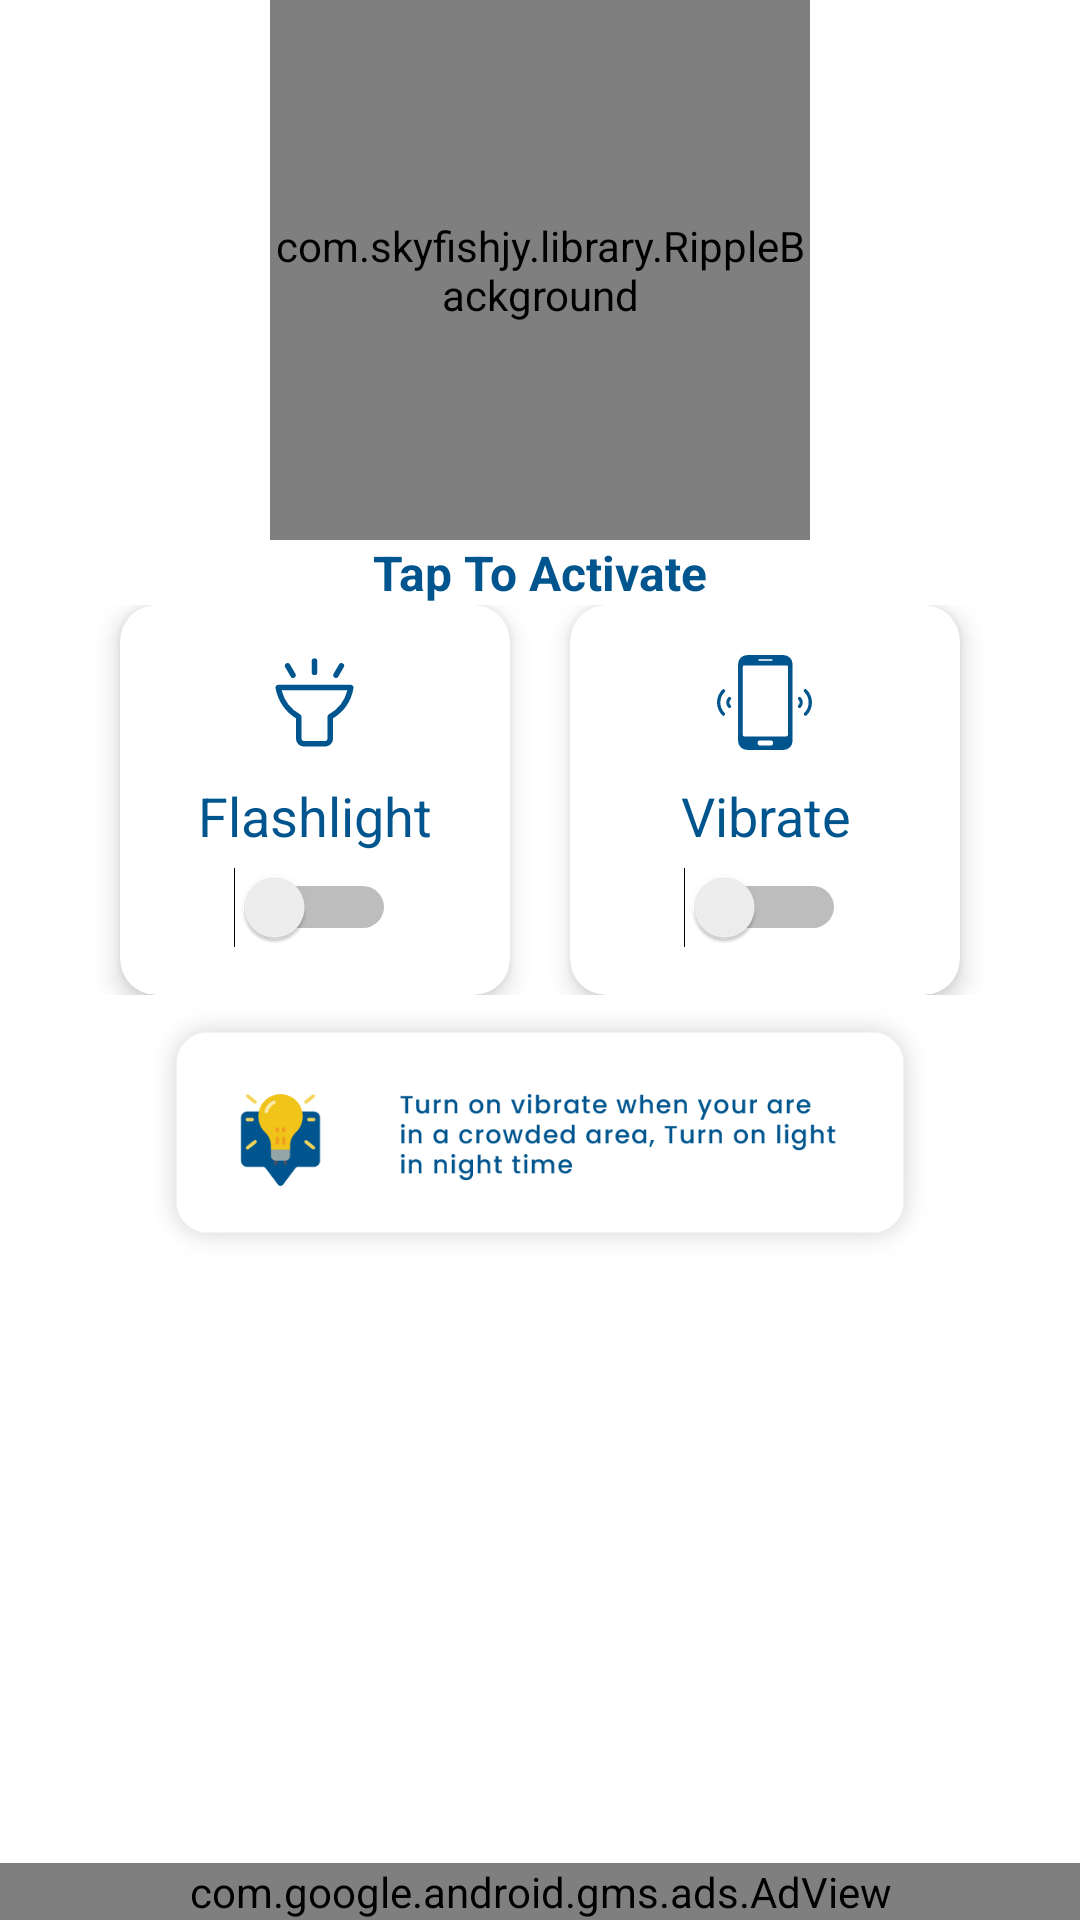

Icons on this 1080px×1920px Android screen, each with its box as (x1, y1, x2, y2):
bulb off: (275, 658, 354, 747)
viberate off: (717, 655, 812, 750)
